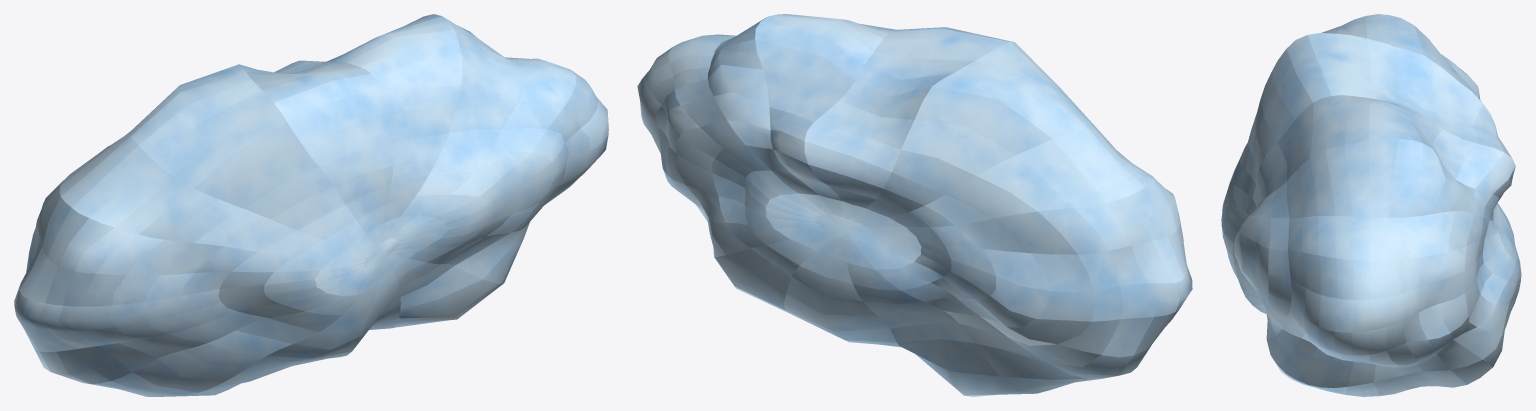
File: cloud1.fbx
3 renders of one model, left to right at view 1: azimuth 30°, elevation 25°; view 2: azimuth 150°, elevation 25°; view 3: azimuth 270°, elevation 25°, orthographic. The views are drawn at different scales.
Visible parts, largest first — view 1: pasted__pSphere2.001; view 2: pasted__pSphere2.001; view 3: pasted__pSphere2.001.
Boxes of the visible parts, x1,y1,x2,y2 form: pasted__pSphere2.001: (14, 14, 608, 396); pasted__pSphere2.001: (637, 14, 1192, 396); pasted__pSphere2.001: (1221, 14, 1521, 396).
Size of the model in its own units: 10728 by 5909 by 4788.
1 material, 1 textured.
